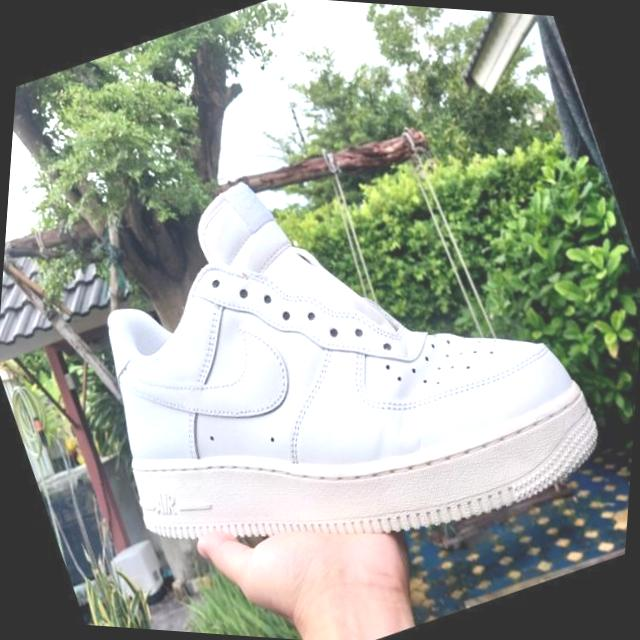nike_original_airforce: (23, 66, 640, 640)
